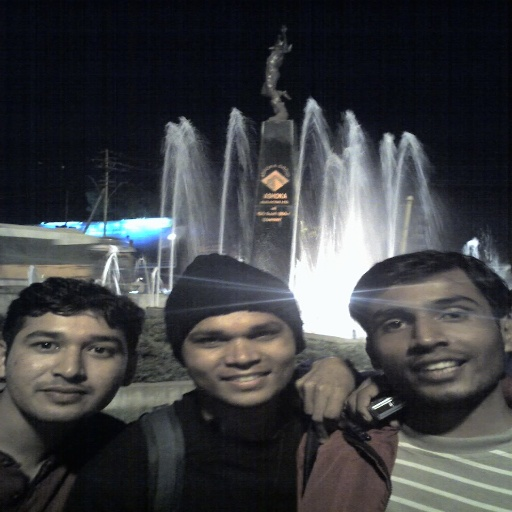hand: (306, 363, 366, 431), (338, 368, 402, 430)
